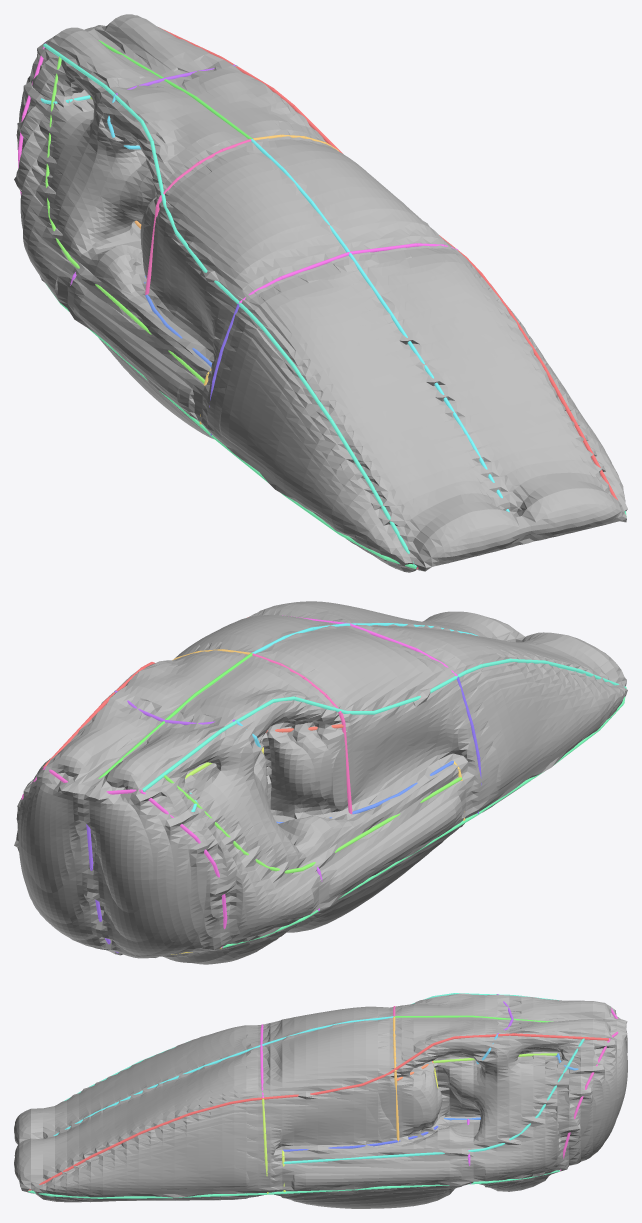
File: t2f_hand_vacuum.gltf
3 views of the same model, one above another, from view 1: azimuth 30°, elevation 25°; view 2: azimuth 150°, elevation 25°; view 3: azimuth 270°, elevation 25° (orthographic). The views are drawn at different scales.
Bounding box in the file's own units: 0.3395 × 0.2983 × 0.9464.
